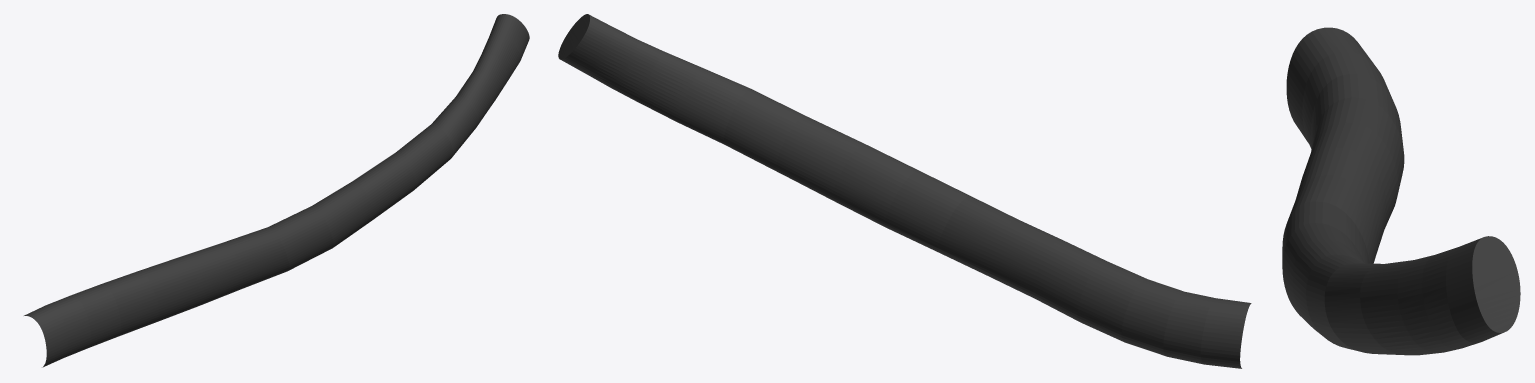
The model's file is N_5_trigeminus_maxillary_zygomatic.glb.
3 views of the same model, side by side, from view 1: azimuth 30°, elevation 25°; view 2: azimuth 150°, elevation 25°; view 3: azimuth 270°, elevation 25° (orthographic). The views are drawn at different scales.
Visible parts, largest first — view 1: N_5_trigeminus_maxillary_zygomatic; view 2: N_5_trigeminus_maxillary_zygomatic; view 3: N_5_trigeminus_maxillary_zygomatic.
Part boxes in pixels (x1=…): N_5_trigeminus_maxillary_zygomatic: x1=24, y1=14, x2=529, y2=367; N_5_trigeminus_maxillary_zygomatic: x1=558, y1=14, x2=1251, y2=368; N_5_trigeminus_maxillary_zygomatic: x1=1282, y1=27, x2=1520, y2=355.
Bounding box in the file's own units: 0.0123 × 0.00431 × 0.00232.
1 material, 1 textured.
